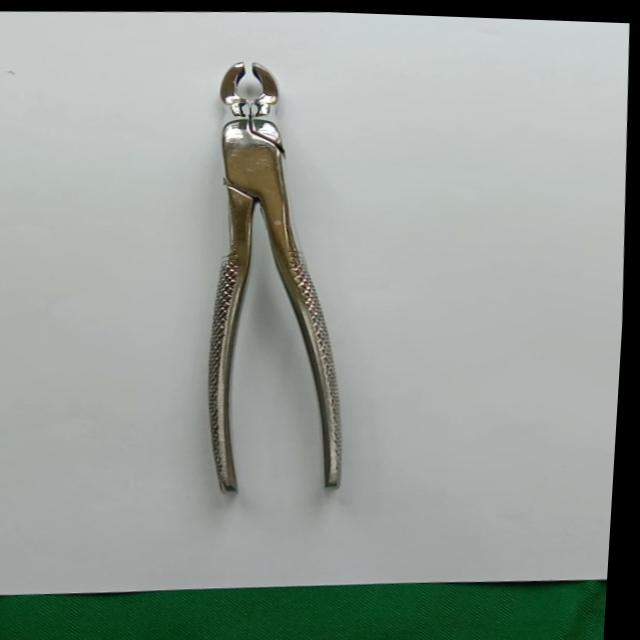BayonetForcep: (172, 52, 386, 504)
